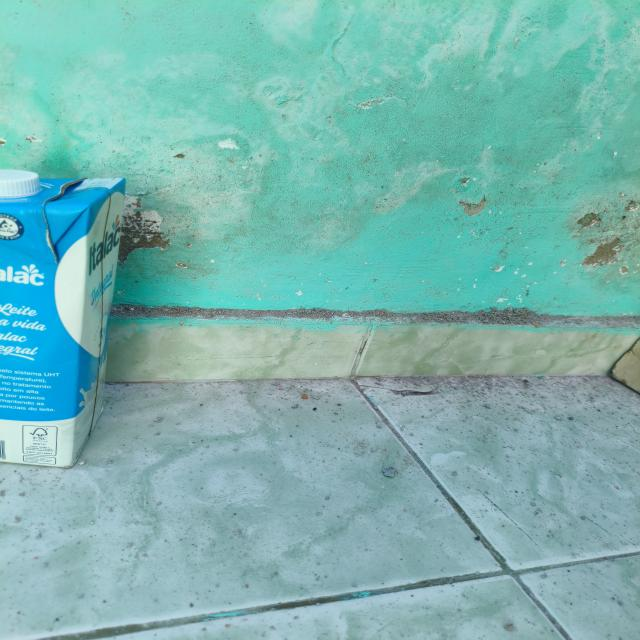Caixa de Leite: (2, 178, 128, 471)
